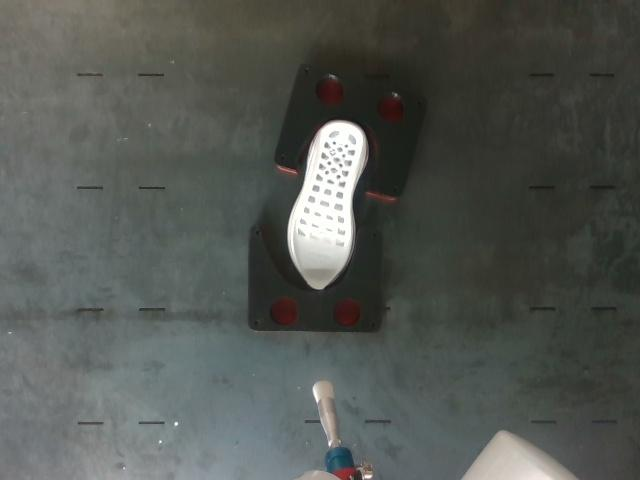shoes: (292, 123, 363, 289)
